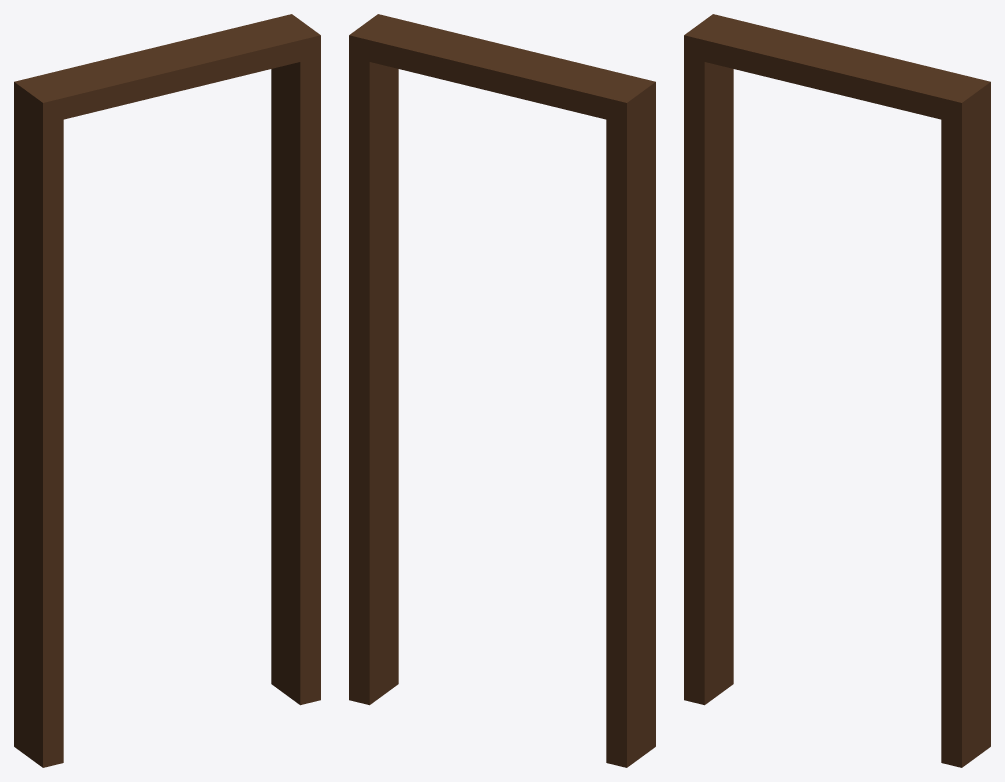
Rendered from door-frame.glb.
3 renders of one model, left to right at view 1: azimuth 30°, elevation 25°; view 2: azimuth 150°, elevation 25°; view 3: azimuth 330°, elevation 25°, orthographic.
Parts seen in each view (by area): view 1: door-frame; view 2: door-frame; view 3: door-frame.
Boxes of the visible parts, box(x1,y1,x2,y2) form: door-frame: box(14, 14, 320, 767); door-frame: box(349, 14, 655, 767); door-frame: box(684, 14, 990, 767).
Size of the model in its own units: 0.94 by 2.15 by 0.17.
